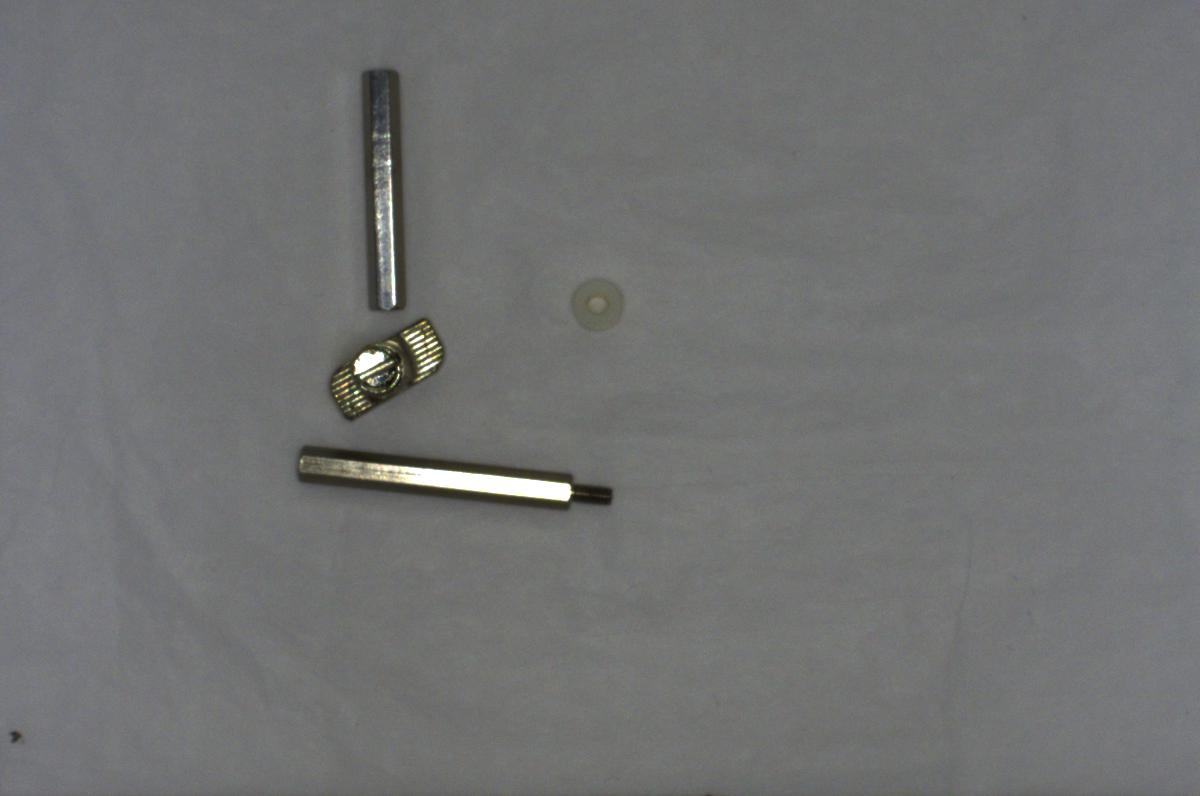Double hexagonal column: (352, 60, 415, 320)
Hexagonal steel column: (284, 432, 630, 527)
Plastic cushion pillar: (567, 270, 633, 336)
T-shaped screw: (324, 315, 453, 418)
